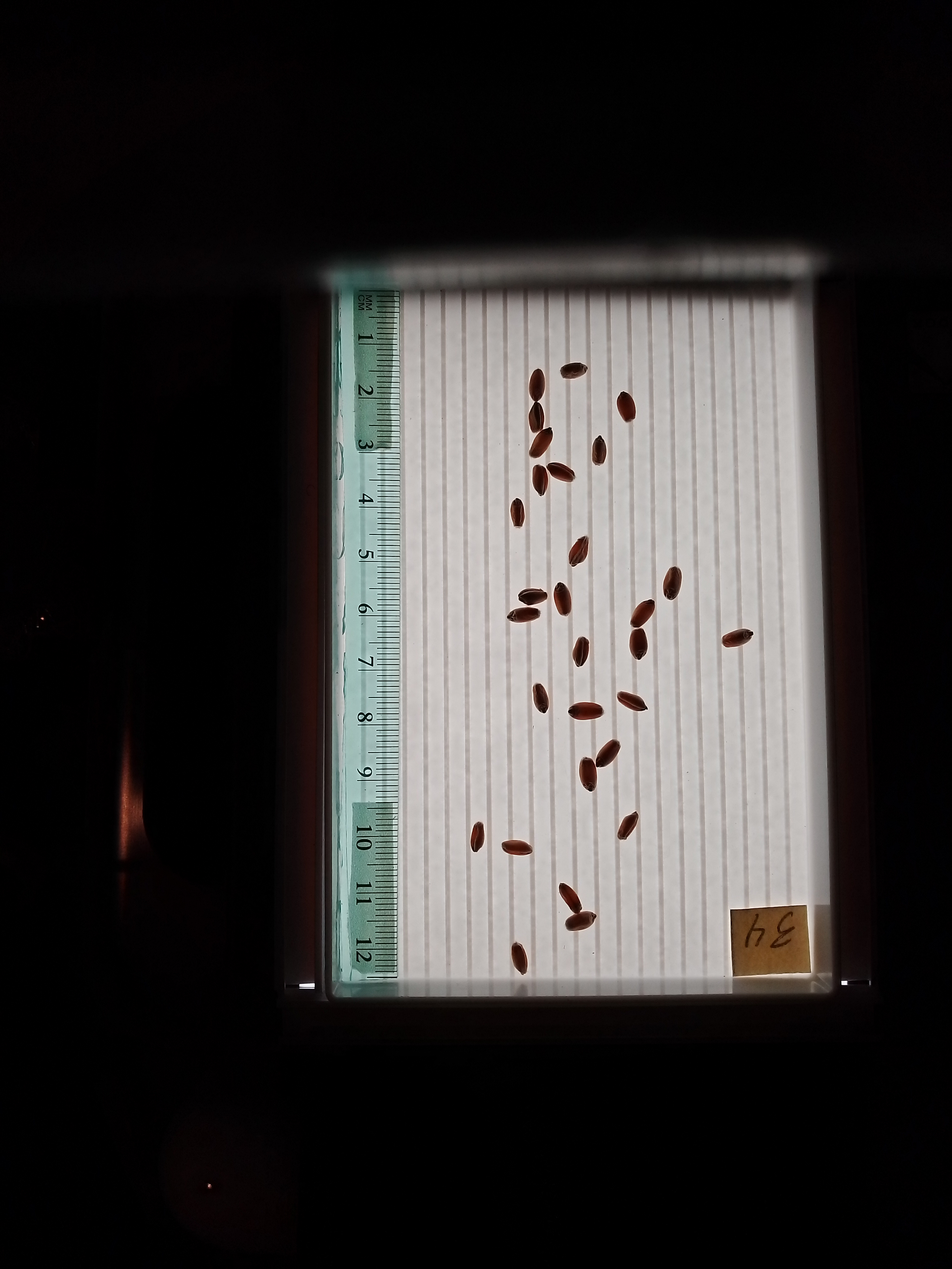seed mask: (559, 883, 582, 914), (568, 536, 590, 567), (596, 740, 620, 768), (663, 566, 682, 600), (529, 429, 552, 457), (579, 757, 597, 792), (569, 702, 603, 720), (618, 812, 639, 841), (565, 911, 595, 931), (722, 629, 753, 648), (618, 692, 647, 712), (617, 392, 636, 422), (554, 584, 572, 615), (632, 600, 654, 625), (511, 943, 528, 975), (630, 629, 648, 659), (532, 465, 549, 495), (502, 839, 532, 856), (529, 369, 545, 400), (561, 361, 587, 380), (548, 463, 574, 482), (572, 637, 589, 666), (507, 608, 539, 623), (519, 588, 547, 605), (533, 684, 549, 713), (528, 404, 544, 432), (592, 437, 607, 465), (510, 499, 525, 527), (470, 823, 485, 851)
